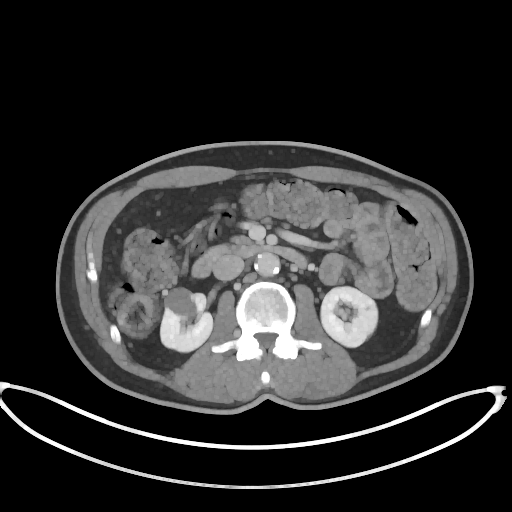Lesion: (161, 283, 198, 320)
